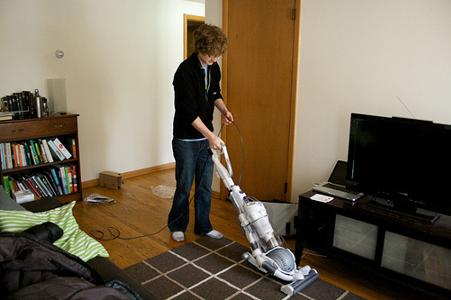person: (166, 25, 237, 243)
